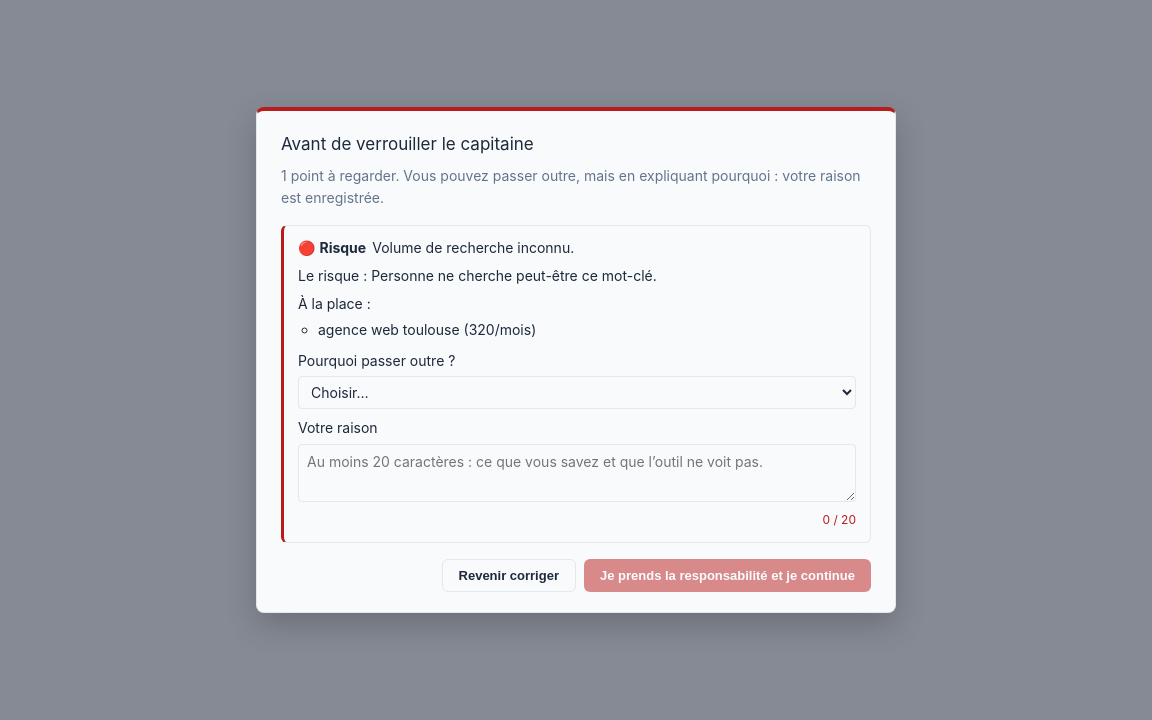
Test: GateAlarm › 🔴 le bouton reste grisé tant que la raison fait moins de 20 caractères
Expected: the button with test id "gate-accept" is disabled, left=584, top=559, right=871, bottom=592
Select "Longue traîne assumée" in the dropdown with test id "gate-category" at (577,393), box left=298, top=376, right=856, bottom=409
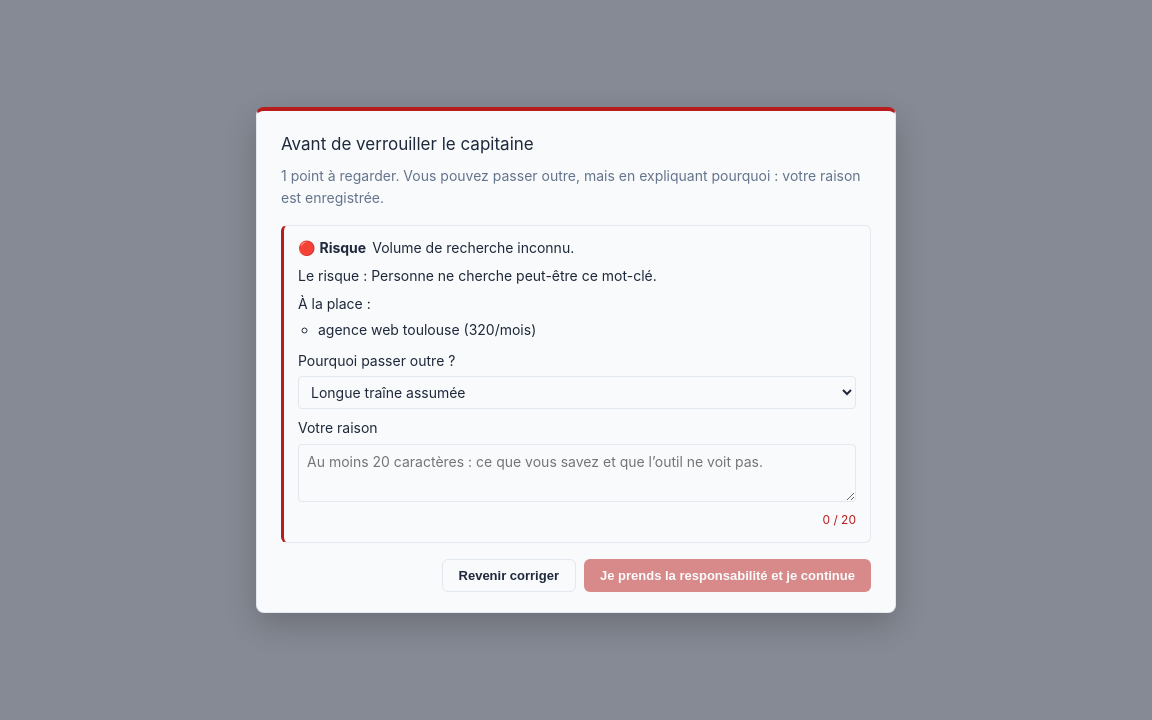
Replace the text in the text box with test id "gate-reason" with "trop court" at (577,473), box left=298, top=444, right=856, bottom=502
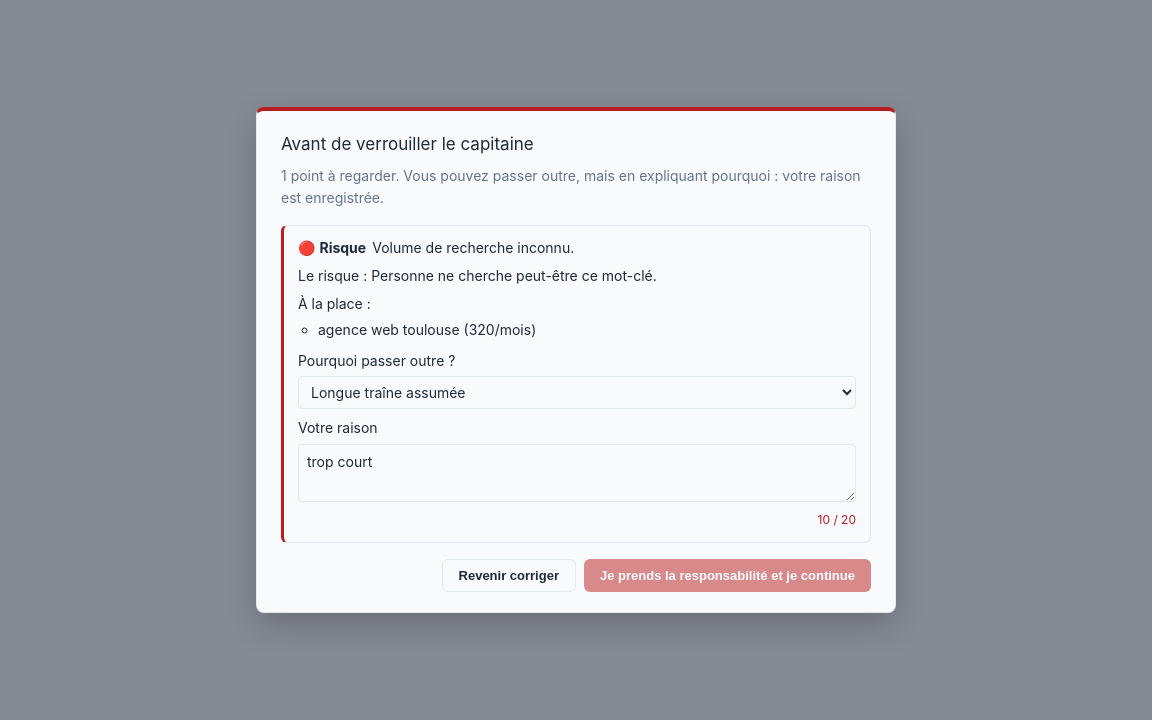
Expected: the button with test id "gate-accept" is disabled, left=584, top=559, right=871, bottom=592
Expected: the text with test id "gate-reason-counter" reads "10 / 20", left=818, top=512, right=856, bottom=527
Replace the text in the text box with test id "gate-reason" with "Demandes réelles reçues au téléphone" at (577,473), box left=298, top=444, right=856, bottom=502
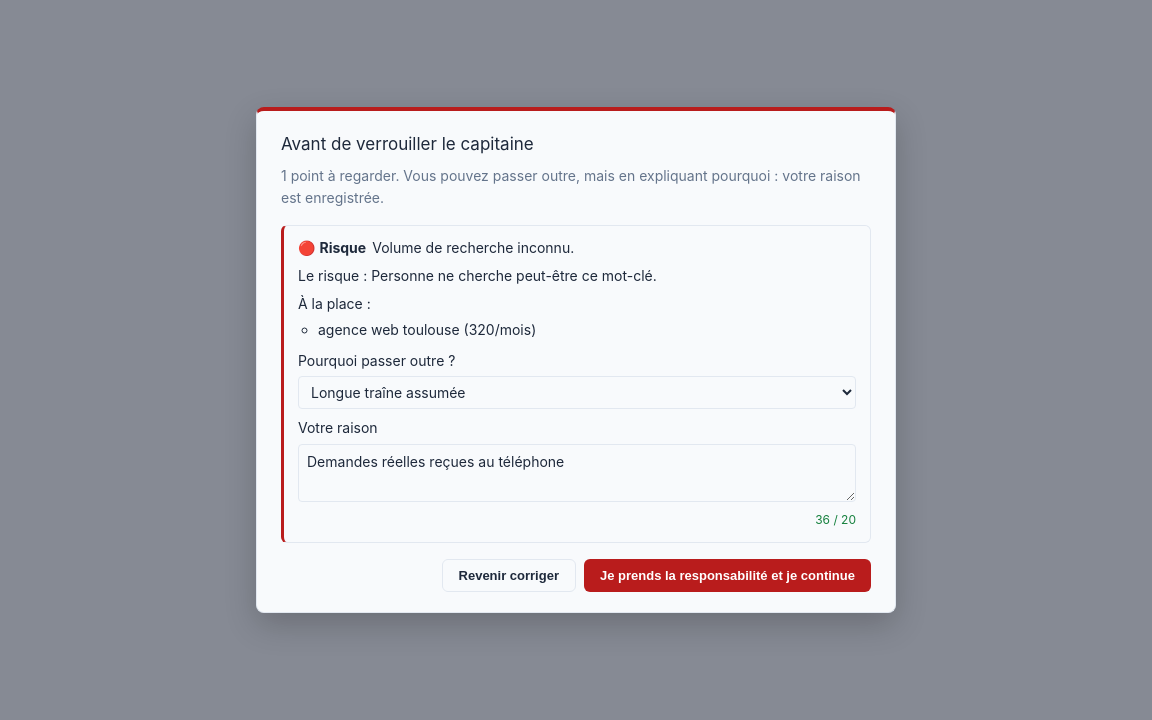
Expected: the button with test id "gate-accept" is enabled, left=584, top=559, right=871, bottom=592
